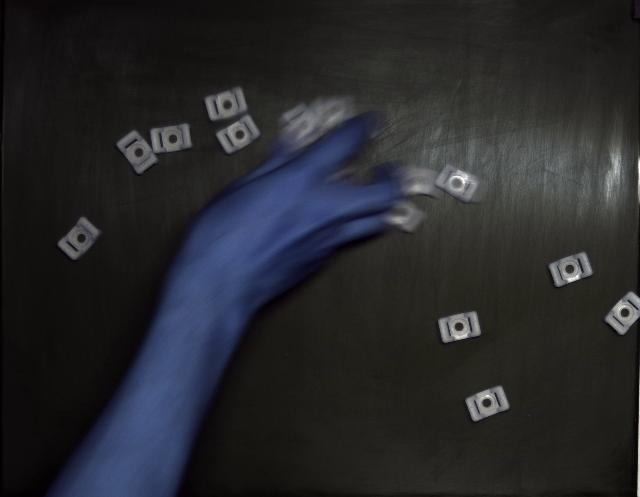first_side: (116, 130, 158, 175), (58, 218, 101, 260), (216, 115, 260, 155), (435, 165, 480, 204), (465, 386, 510, 422), (604, 291, 640, 335), (205, 86, 248, 121), (549, 253, 592, 288), (438, 311, 481, 344), (150, 124, 192, 154)
